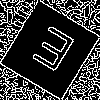E: (24, 25, 77, 81)
